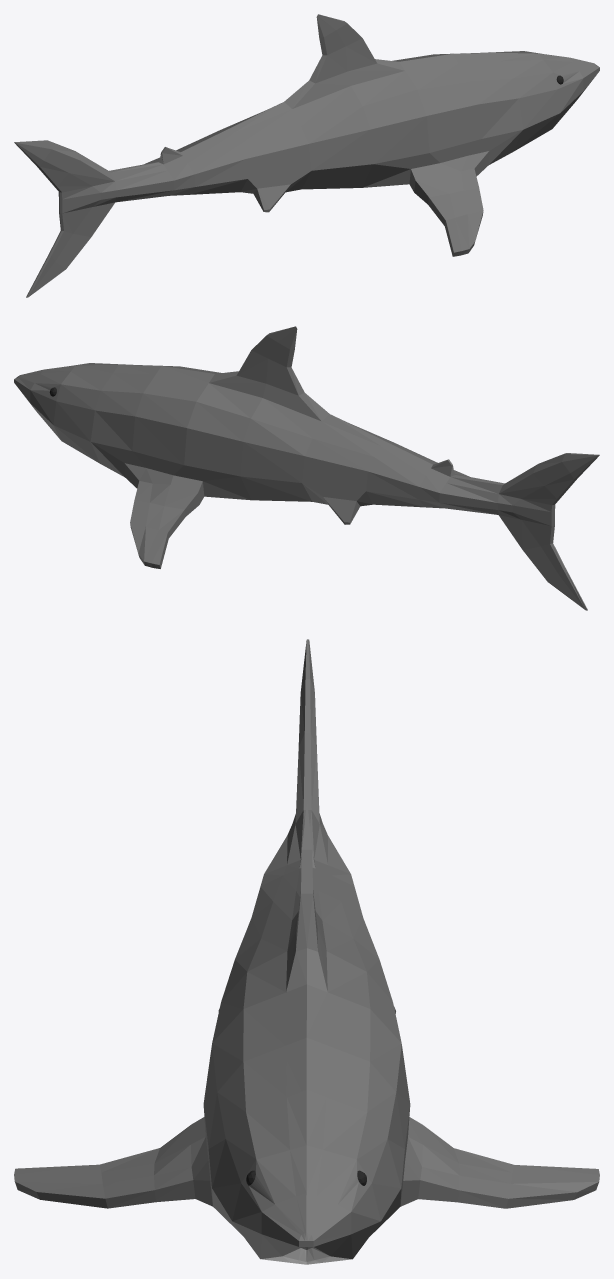
Rendered from zralok.glb.
3 renders of one model, top to bottom at view 1: azimuth 30°, elevation 25°; view 2: azimuth 150°, elevation 25°; view 3: azimuth 270°, elevation 25°, orthographic. The views are drawn at different scales.
Visible parts, largest first — view 1: zralok; view 2: zralok; view 3: zralok.
Part boxes in pixels (x1,y1,x2,y2): zralok: (14,14,599,297); zralok: (14,326,599,610); zralok: (14,639,599,1264).
Size of the model in its own units: 4 by 1.39 by 2.02.
Materials: 1 (1 with a texture image).
